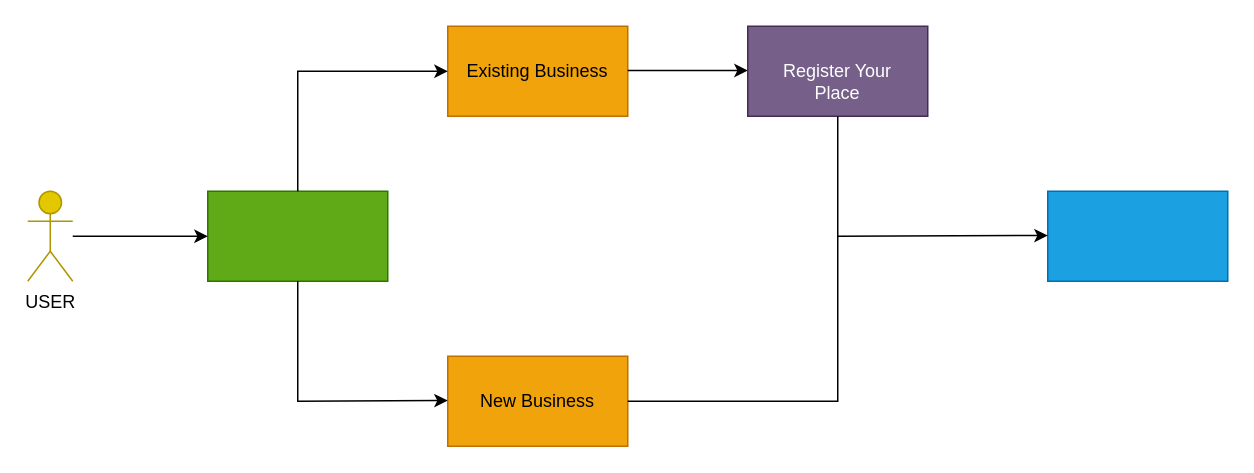
Some shapes in this 1254 by 473 pixel diagram are drawn without their labels. Each missing label, with the centre of its shape:
"Analysis Dashboard" goes at (1137,235).
"Landing Page" goes at (297,235).
